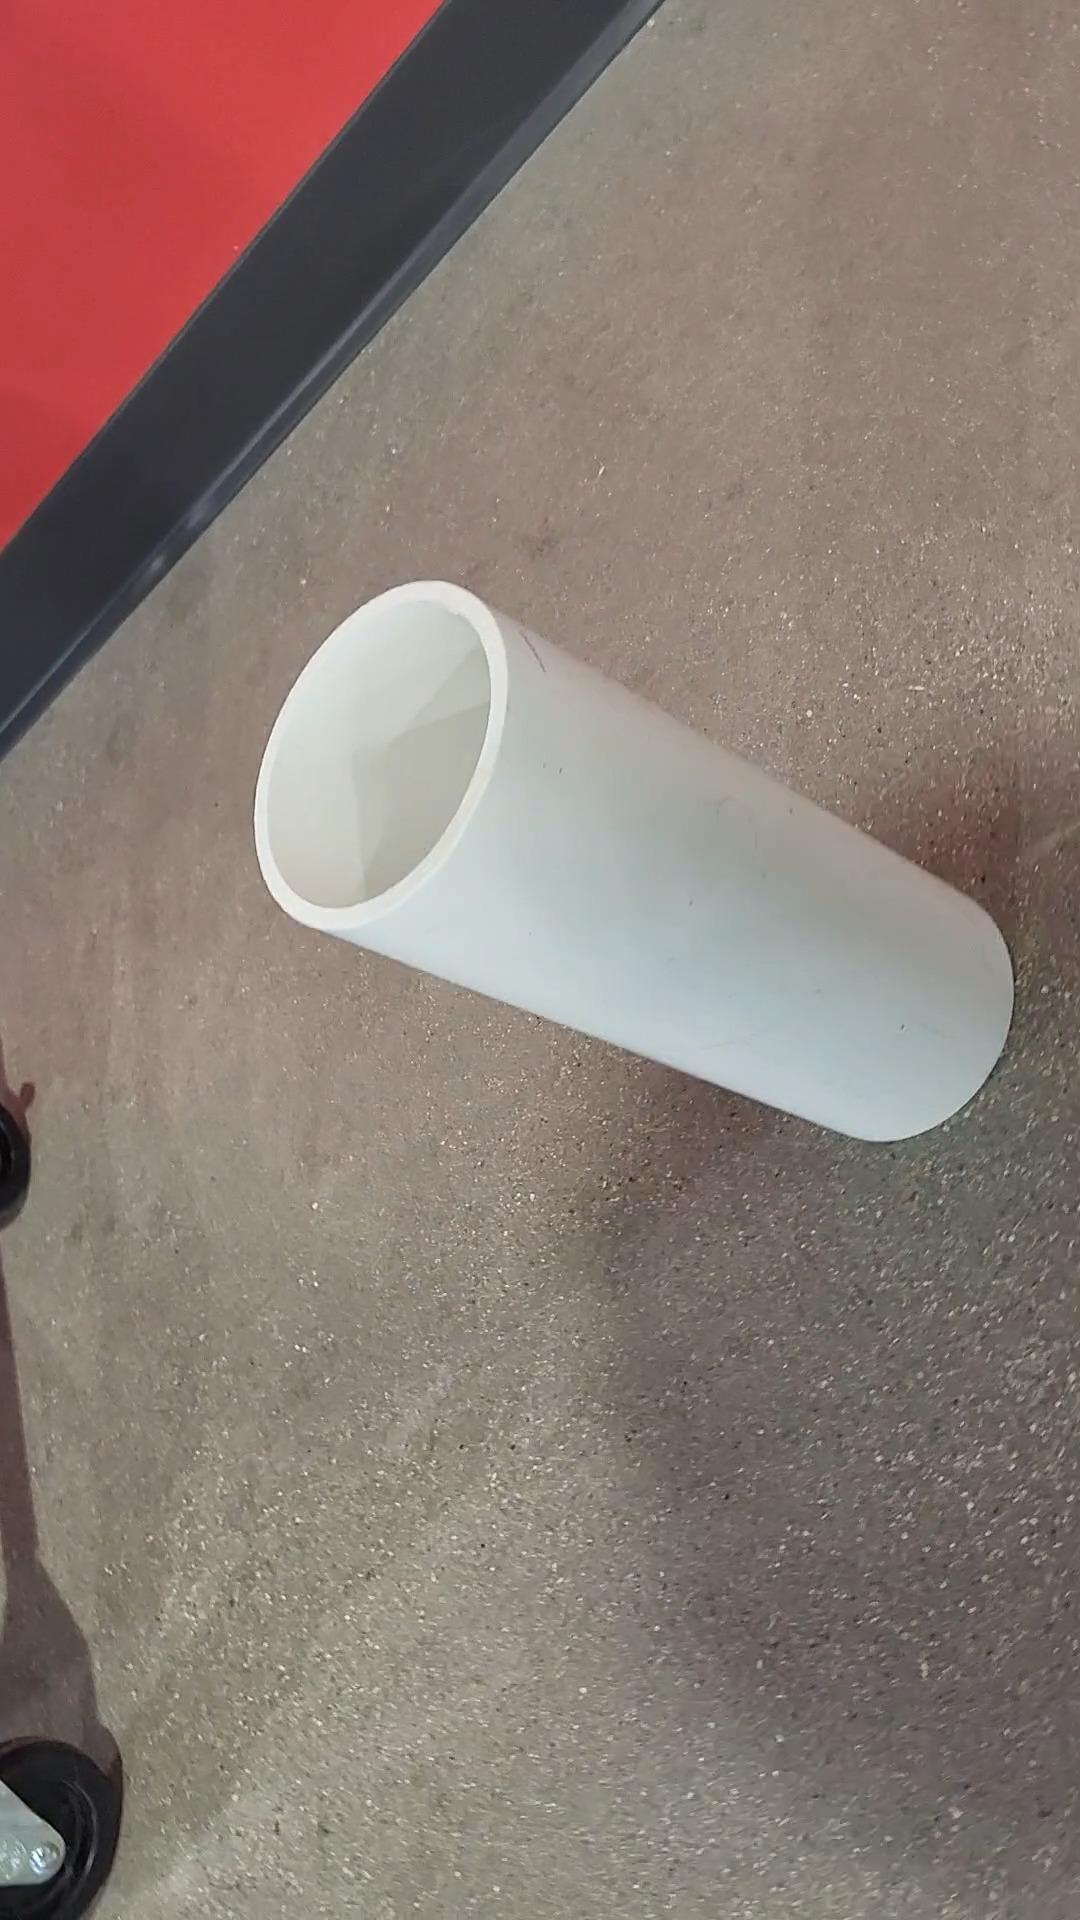coral: (255, 585, 1018, 1142)
